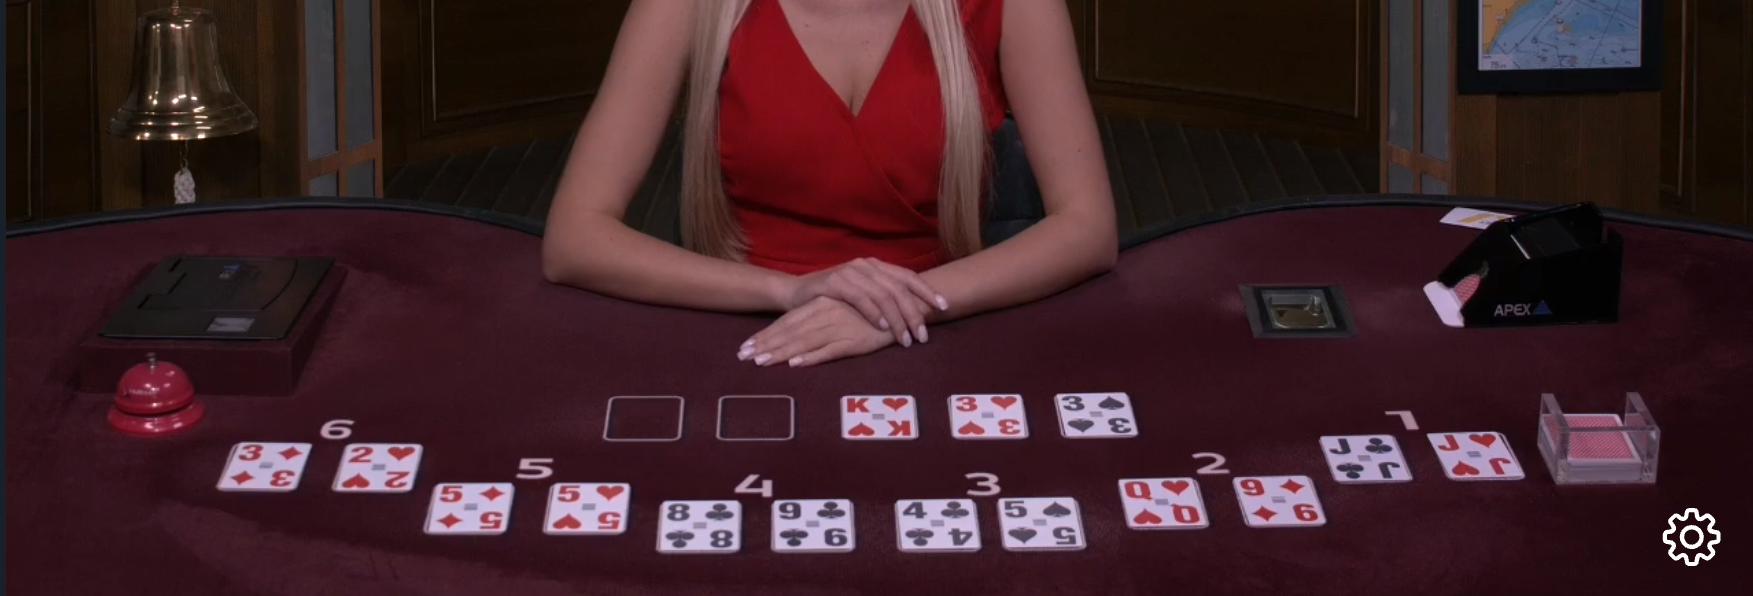2h: (331, 434, 421, 499)
3d: (219, 432, 309, 496)
3h: (942, 387, 1037, 443)
3s: (1052, 388, 1150, 444)
4c: (892, 496, 985, 555)
5d: (420, 479, 517, 539)
5h: (542, 477, 633, 538)
5s: (991, 492, 1088, 560)
8c: (655, 500, 742, 557)
9c: (766, 493, 859, 558)
9d: (1228, 475, 1325, 533)
jc: (1315, 431, 1414, 491)
jh: (1422, 428, 1528, 486)
kh: (837, 388, 923, 445)
qh: (1112, 477, 1210, 534)
